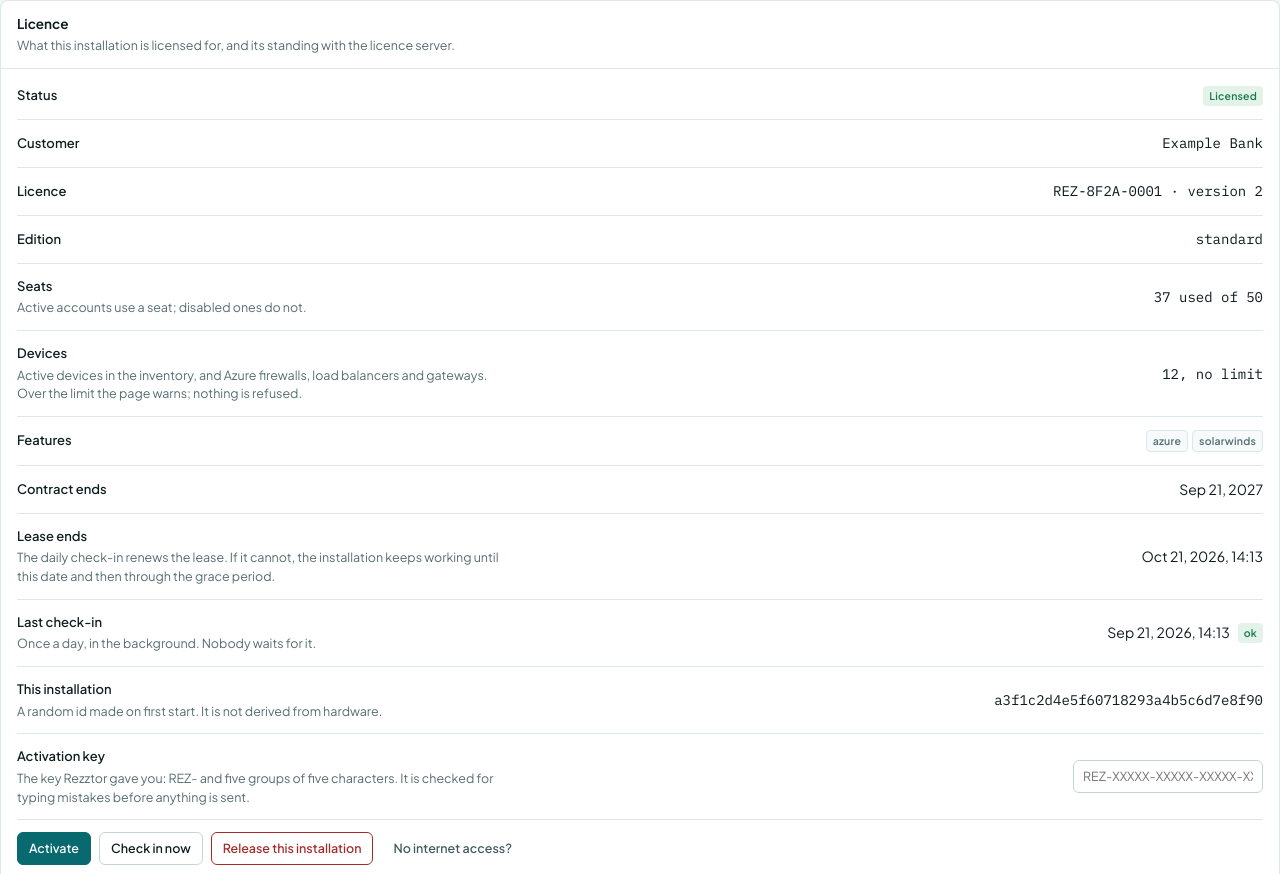
Test: the licence page › releases the installation only after a confirmation
Expected: the text "This installation" is shown, left=17, top=681, right=112, bottom=697
Click the button "Release this installation": (292, 849) left=211, top=832, right=373, bottom=865
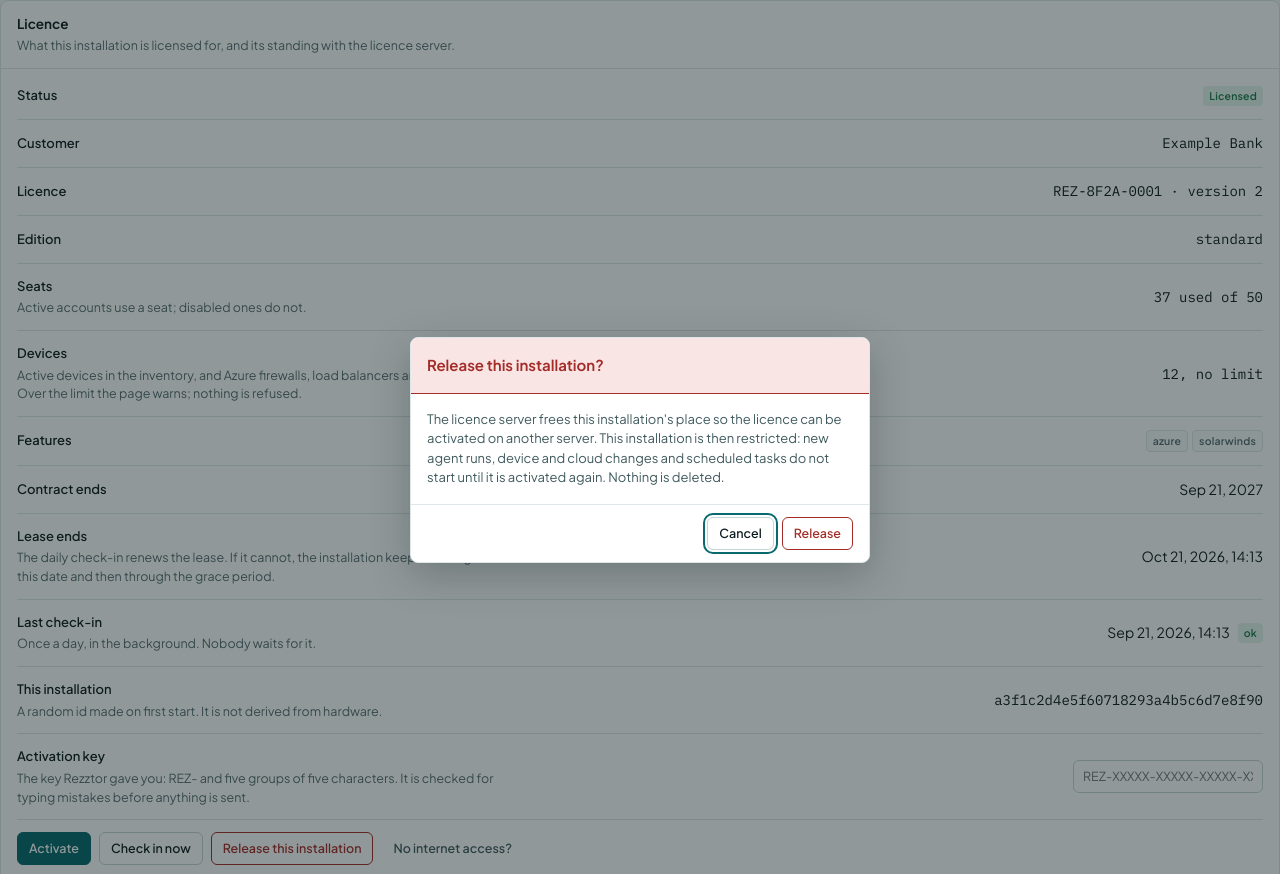
Now the heading "Release this installation?" is shown, box left=427, top=355, right=604, bottom=374
Click the button "Cancel": (741, 533) left=707, top=517, right=774, bottom=550
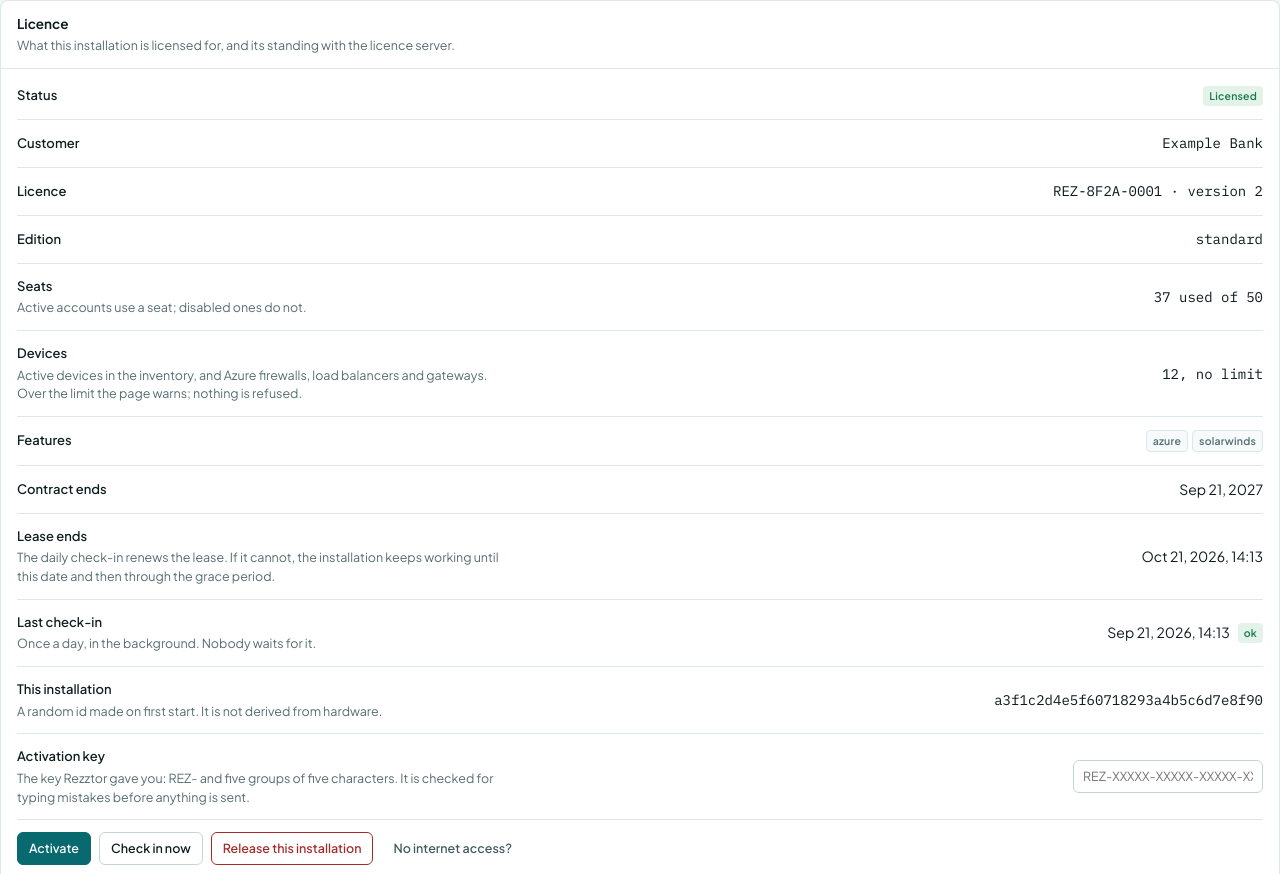
Expected: the text "Release this installation?" is not shown
Click the button "Release this installation": (292, 849) left=211, top=832, right=373, bottom=865
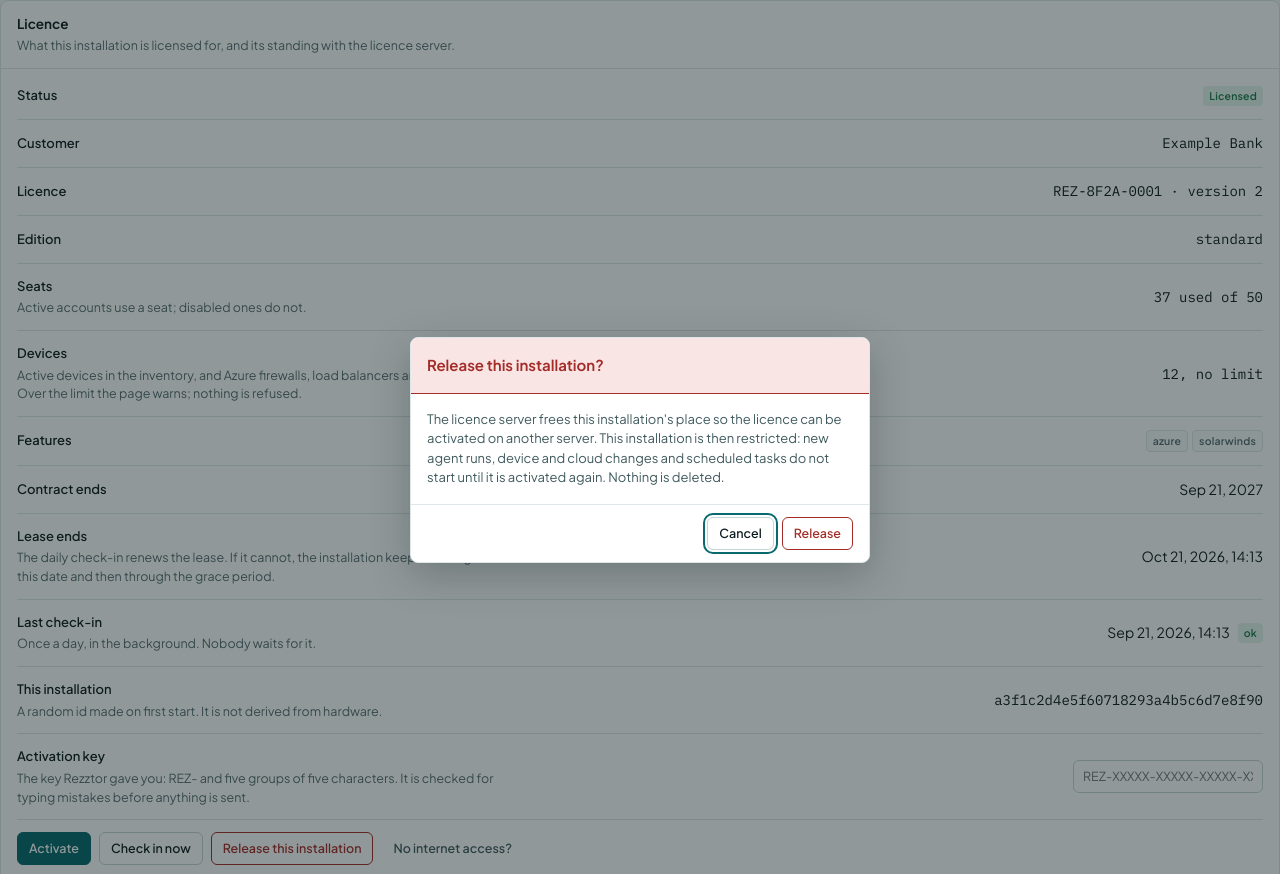
Now the heading "Release this installation?" is shown, box left=427, top=355, right=604, bottom=374
Click the button "Release": (817, 533) left=782, top=517, right=853, bottom=550
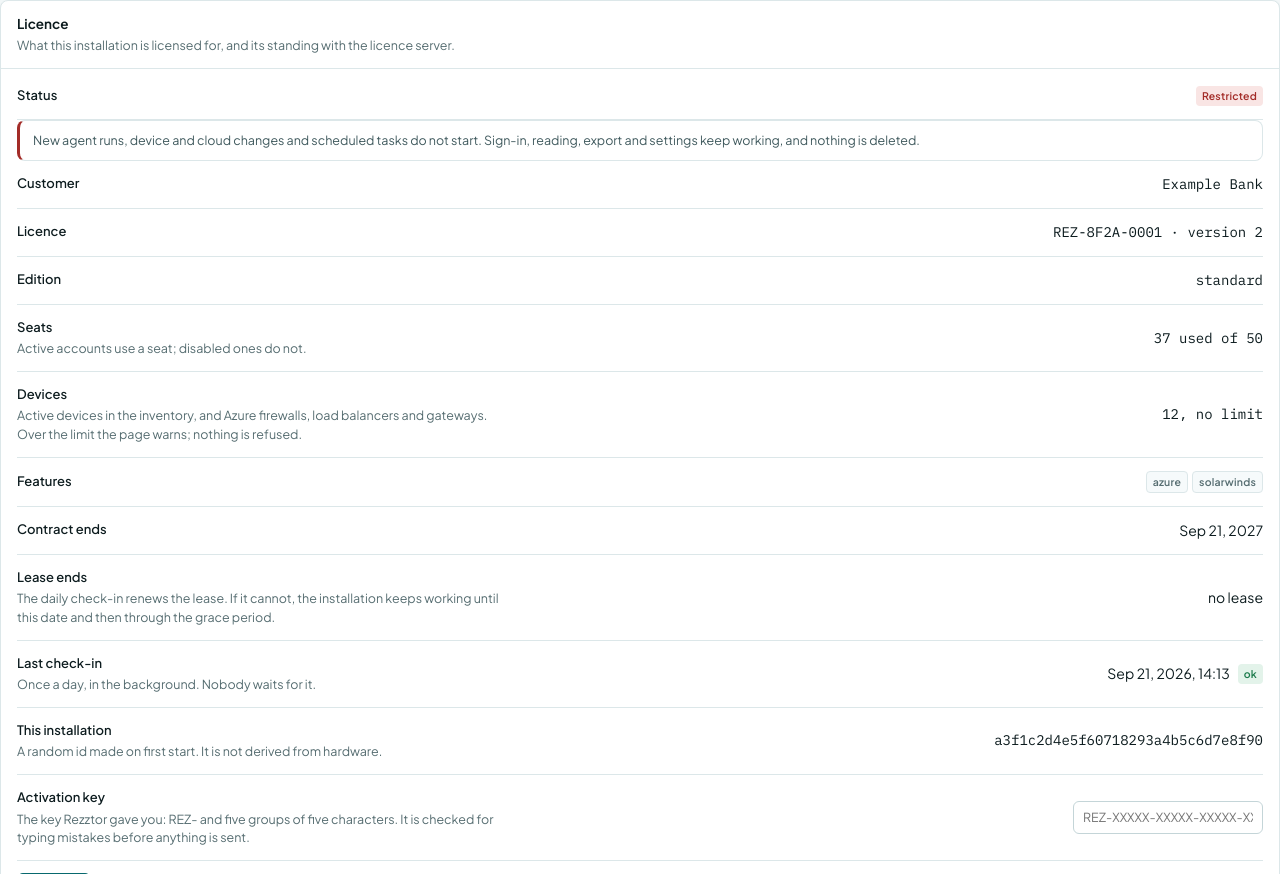
Now the text "Restricted" is shown, box left=1196, top=86, right=1263, bottom=106
